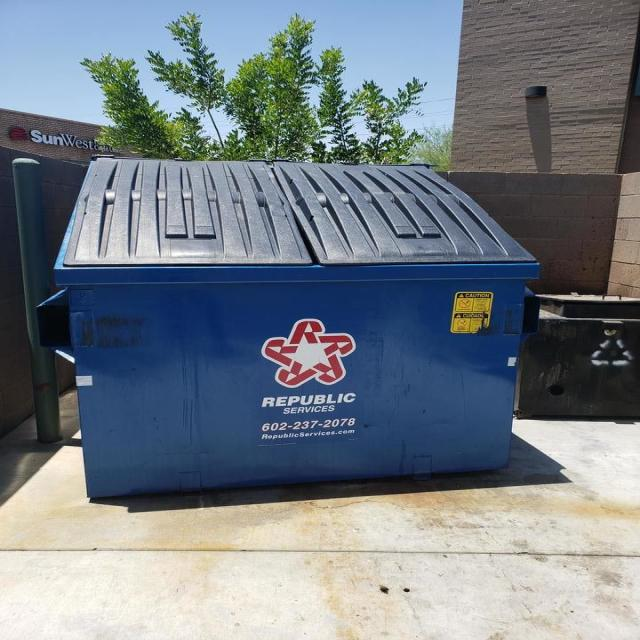metal: (69, 154, 547, 500)
